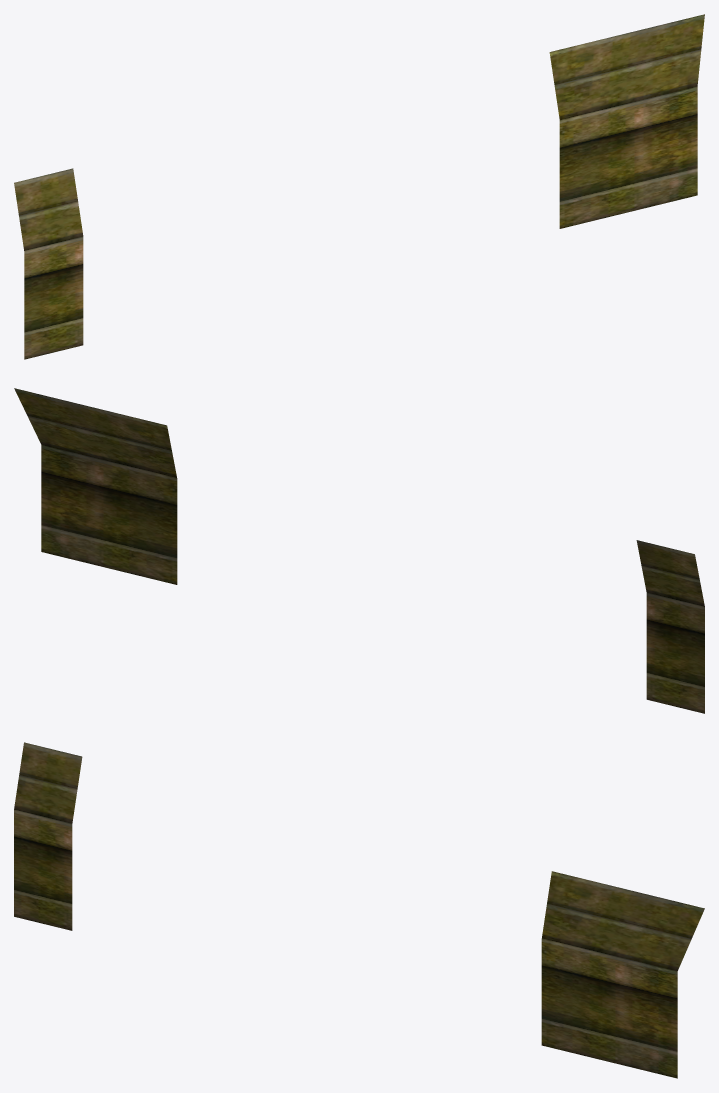
File: OVERHILL_A_01_OBJECT198.fbx
3 views of the same model, one above another, from view 1: azimuth 30°, elevation 25°; view 2: azimuth 150°, elevation 25°; view 3: azimuth 330°, elevation 25° (orthographic).
Visible parts, largest first — view 1: OVERHILL_A_01_OBJECT198; view 2: OVERHILL_A_01_OBJECT198; view 3: OVERHILL_A_01_OBJECT198.
Boxes of the visible parts, left/top/right/bottom form: OVERHILL_A_01_OBJECT198: left=14, top=14, right=704, bottom=359; OVERHILL_A_01_OBJECT198: left=14, top=388, right=704, bottom=713; OVERHILL_A_01_OBJECT198: left=14, top=742, right=704, bottom=1078.
Size of the model in its own units: 52745 by 12361 by 1348.
2 materials, 2 textured.
